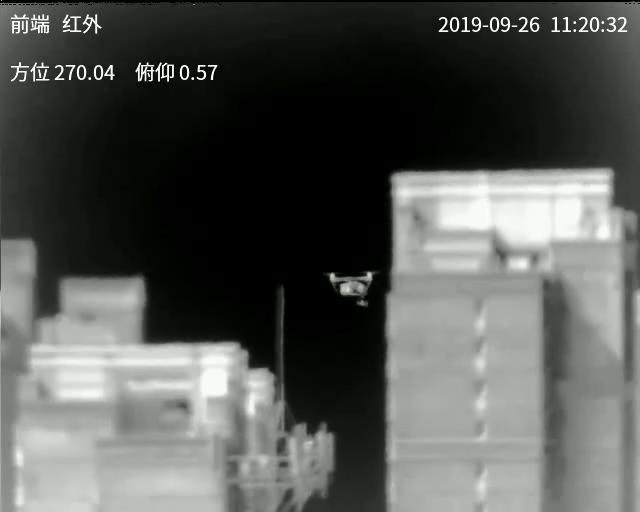uav: (322, 264, 376, 309)
